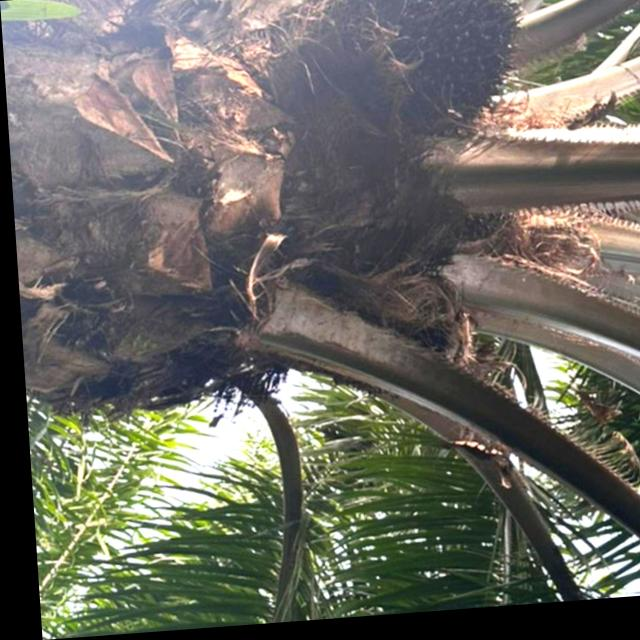unripe: (334, 0, 531, 145)
